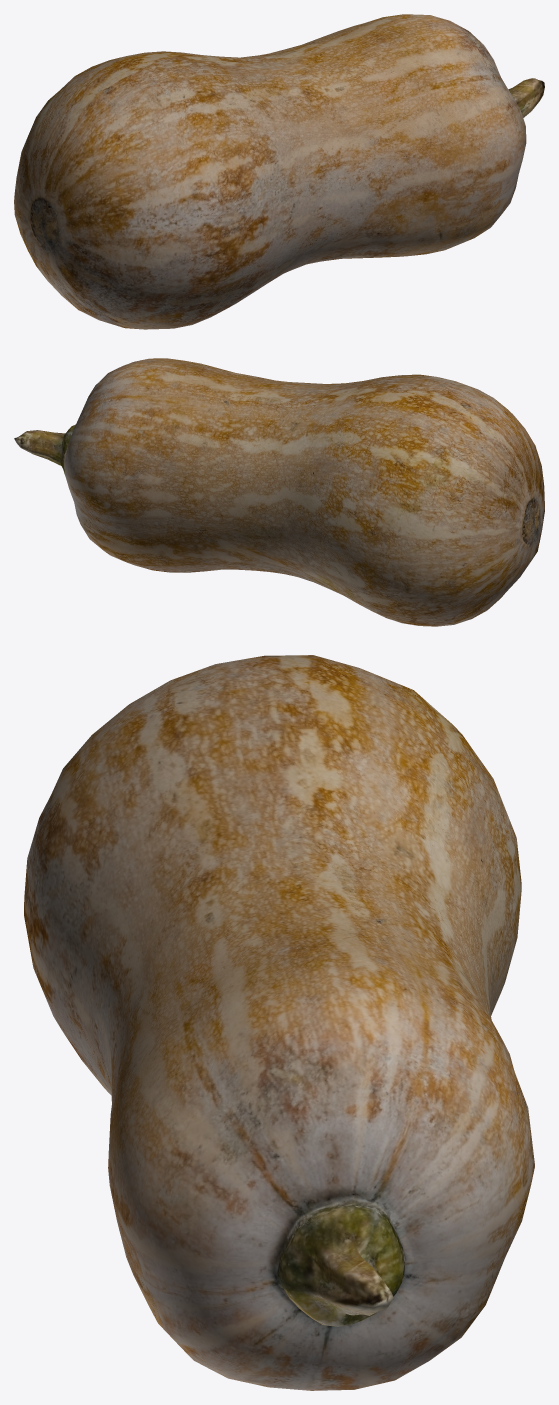
Rendered from kiri_courge_butternut.gltf.
3 renders of one model, top to bottom at view 1: azimuth 30°, elevation 25°; view 2: azimuth 150°, elevation 25°; view 3: azimuth 270°, elevation 25°, orthographic. The views are drawn at different scales.
Visible parts, largest first — view 1: A128_Butternut_Squash; view 2: A128_Butternut_Squash; view 3: A128_Butternut_Squash.
Part boxes in pixels (bbox=[...]): A128_Butternut_Squash: bbox=[14, 14, 544, 329]; A128_Butternut_Squash: bbox=[14, 358, 544, 626]; A128_Butternut_Squash: bbox=[24, 655, 534, 1390].
Size of the model in its own units: 0.296 by 0.1317 by 0.134.
Materials: 1 (1 with a texture image).
